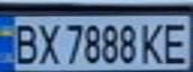7: (60, 19, 84, 65)
8: (81, 20, 103, 65), (118, 20, 139, 65), (100, 21, 121, 64)
B: (6, 19, 42, 65)
E: (157, 18, 193, 65)
K: (136, 19, 169, 65)
X: (33, 19, 60, 65)
